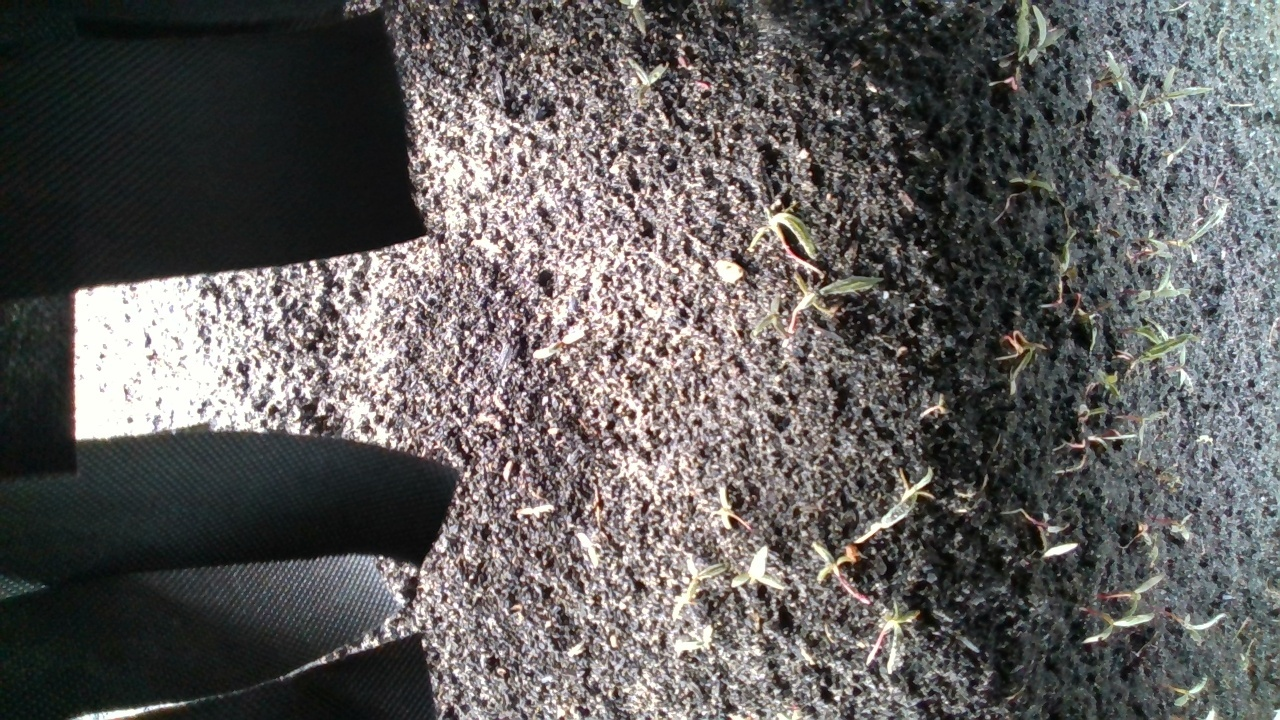weed: (1081, 573, 1150, 648), (628, 59, 663, 102)
